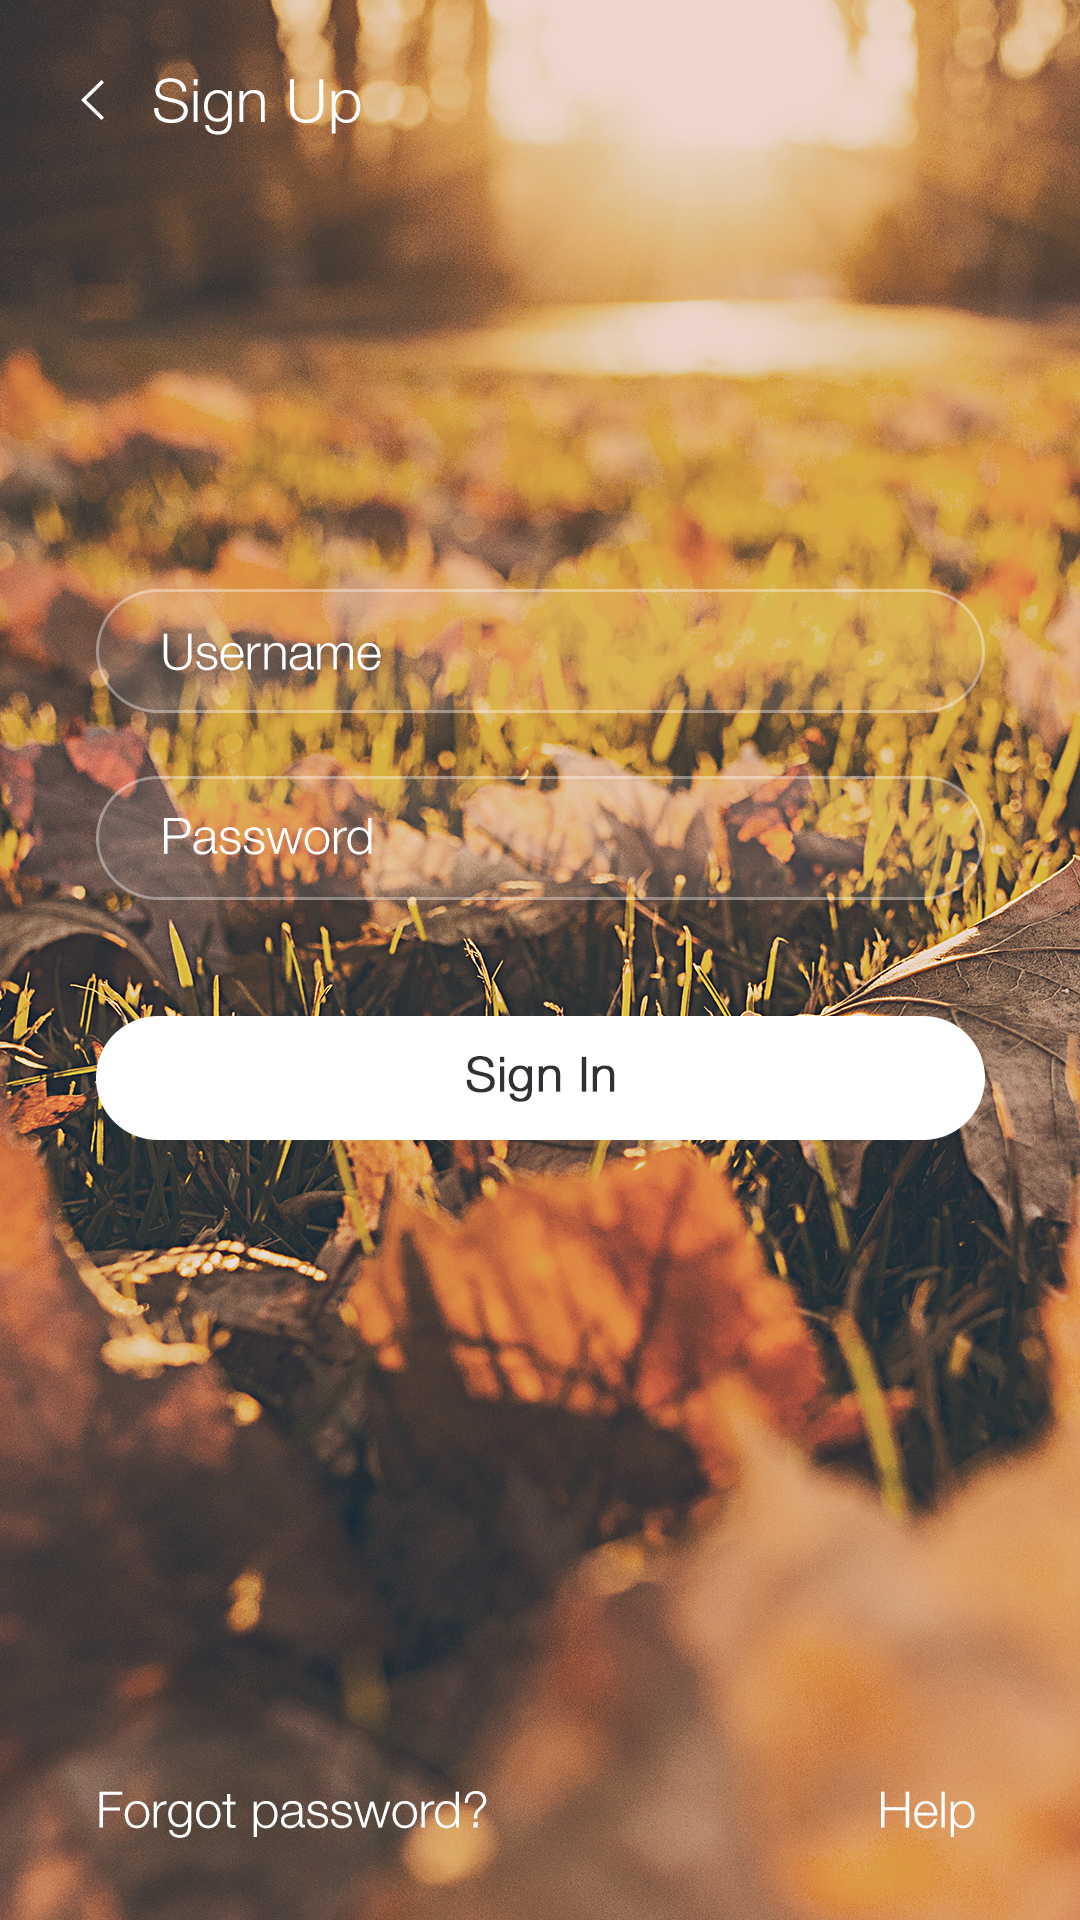BackgroundImage: (1, 1, 1080, 1920)
EditText: (96, 775, 985, 901), (96, 589, 986, 713)
Icon: (80, 80, 105, 123)
Text: (99, 1789, 488, 1840), (154, 78, 361, 137), (164, 633, 382, 673), (165, 818, 373, 856), (881, 1791, 975, 1838)
TextButton: (96, 1015, 986, 1141)
